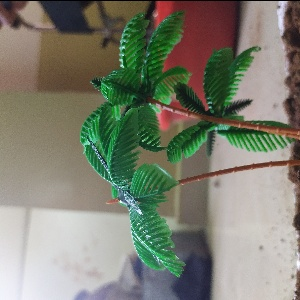plant: (42, 1, 300, 276)
